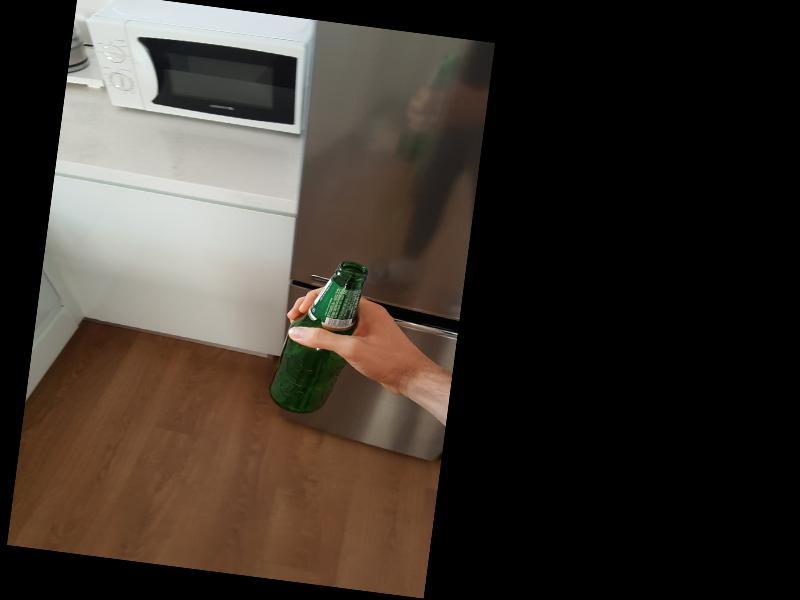Beer: (268, 253, 368, 420)
